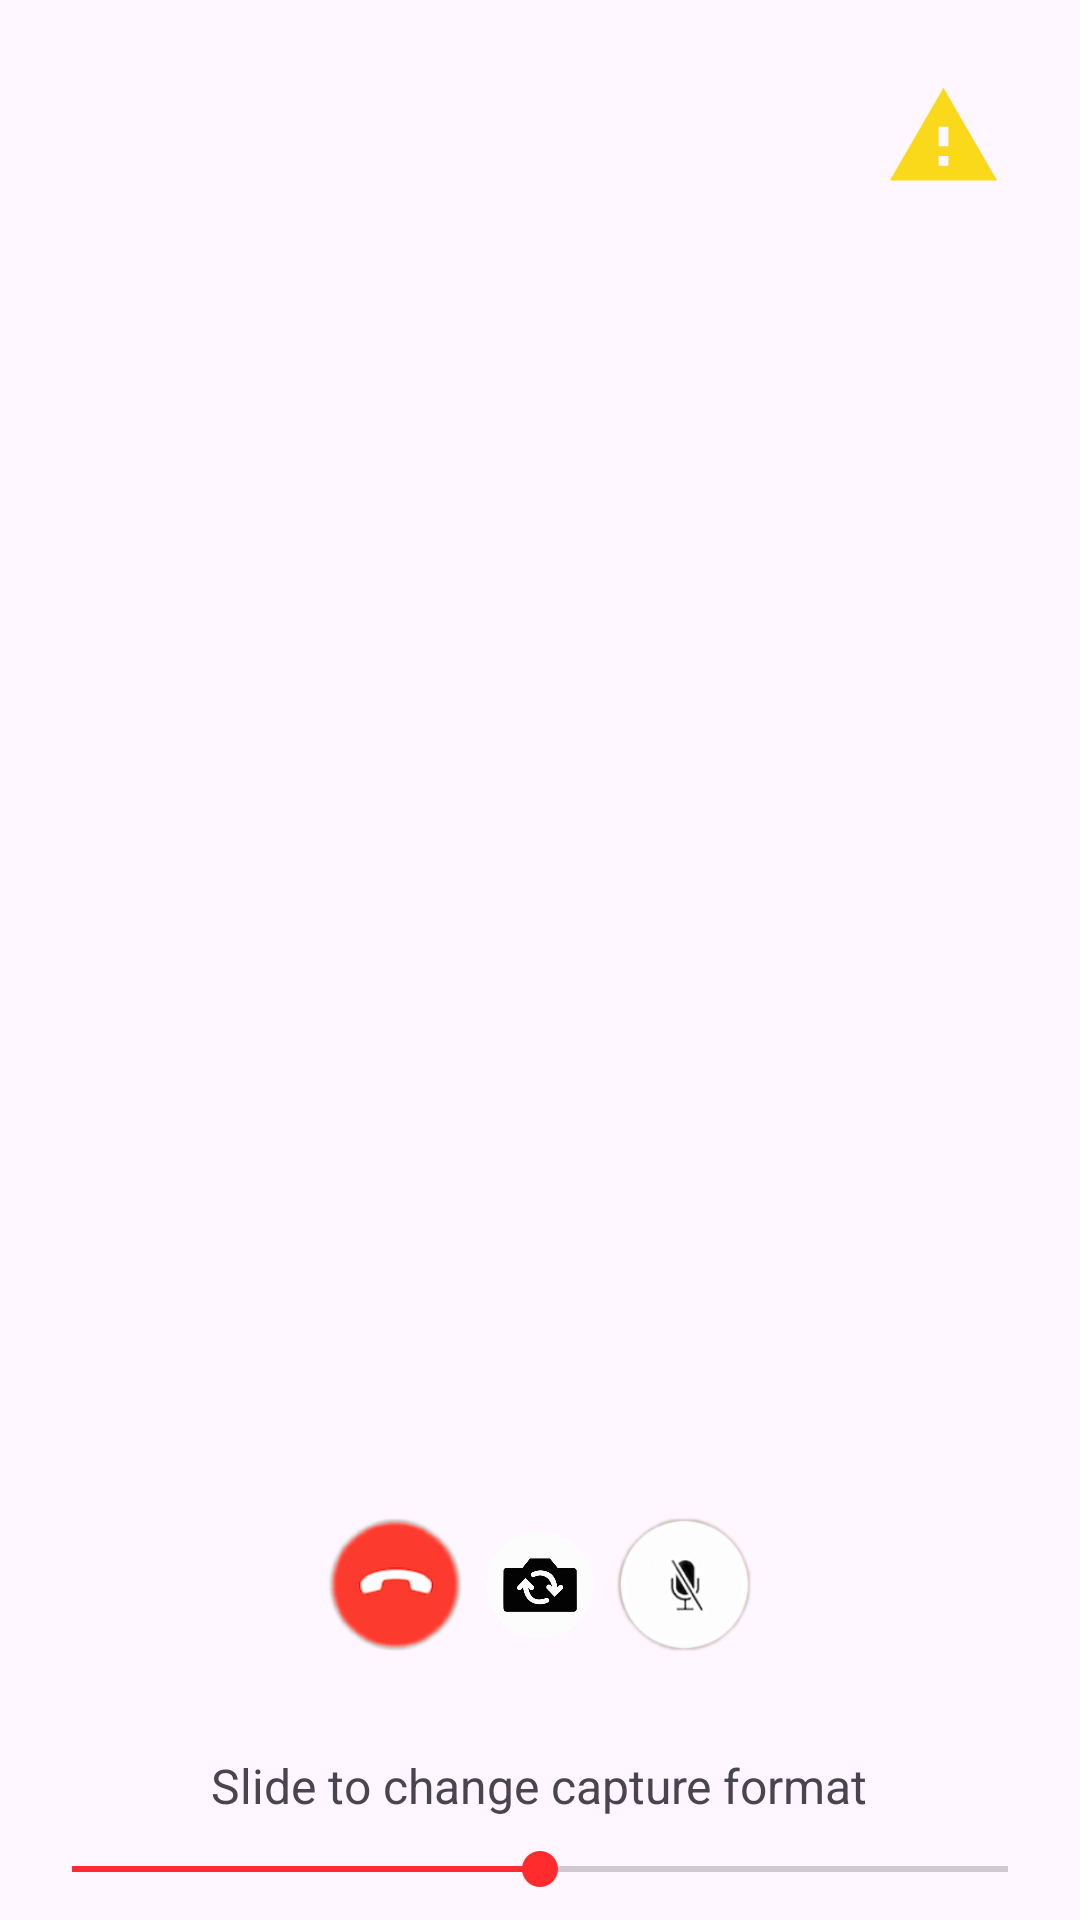

Icon click points for this 1080px x 1920px phone screenshot, format [x,y]:
camera: [540,1585]
disconnect: [395,1584]
mic: [684,1584]
report problem: [943,134]
